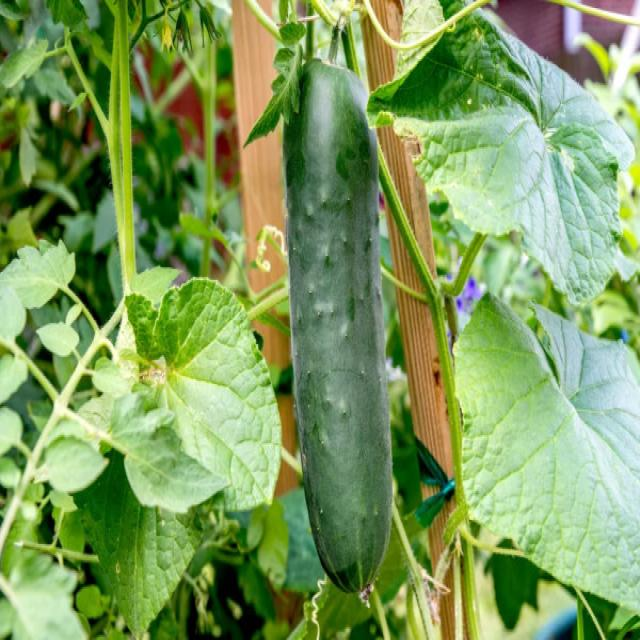cucumber: (281, 48, 392, 594)
